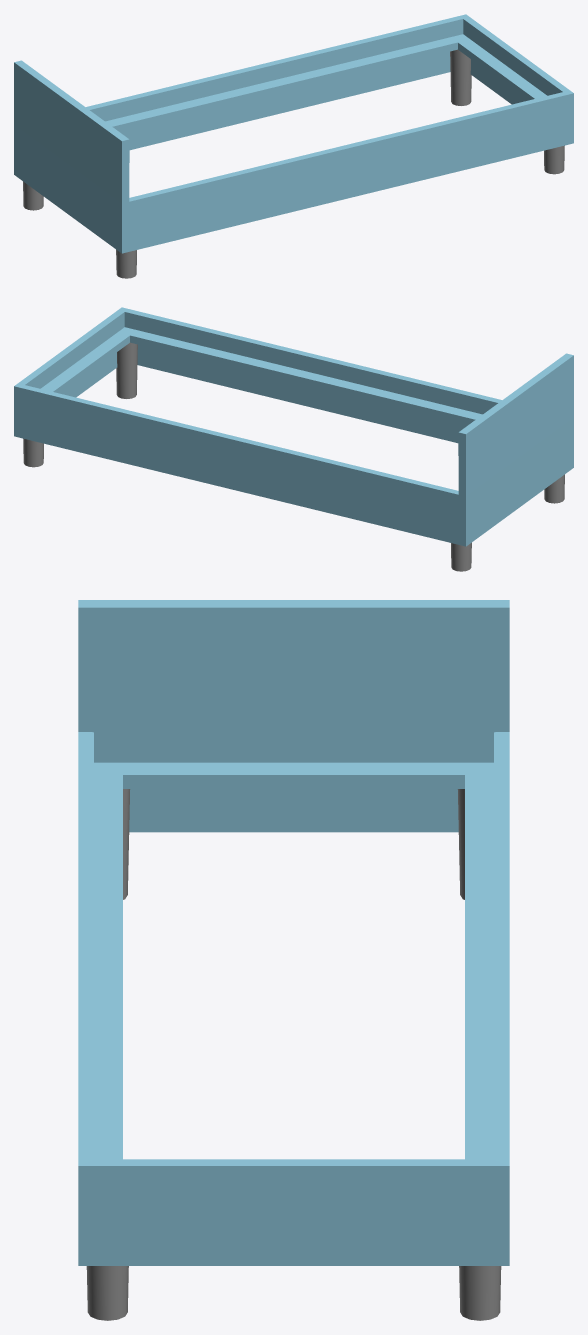
The model's file is FURNITURE_singleBed_03.FBX.
The picture shows the model from 3 angles, top to bottom: view 1: azimuth 30°, elevation 25°; view 2: azimuth 150°, elevation 25°; view 3: azimuth 270°, elevation 25°; orthographic projection. The views are drawn at different scales.
Visible parts, largest first — view 1: FURNITURE_singleBed_03; view 2: FURNITURE_singleBed_03; view 3: FURNITURE_singleBed_03.
Part boxes in pixels (x1,y1,x2,y2): FURNITURE_singleBed_03: (14, 14, 573, 278); FURNITURE_singleBed_03: (14, 307, 573, 571); FURNITURE_singleBed_03: (78, 600, 509, 1320).
Bounding box in the file's own units: 255 × 76.16 × 105.
